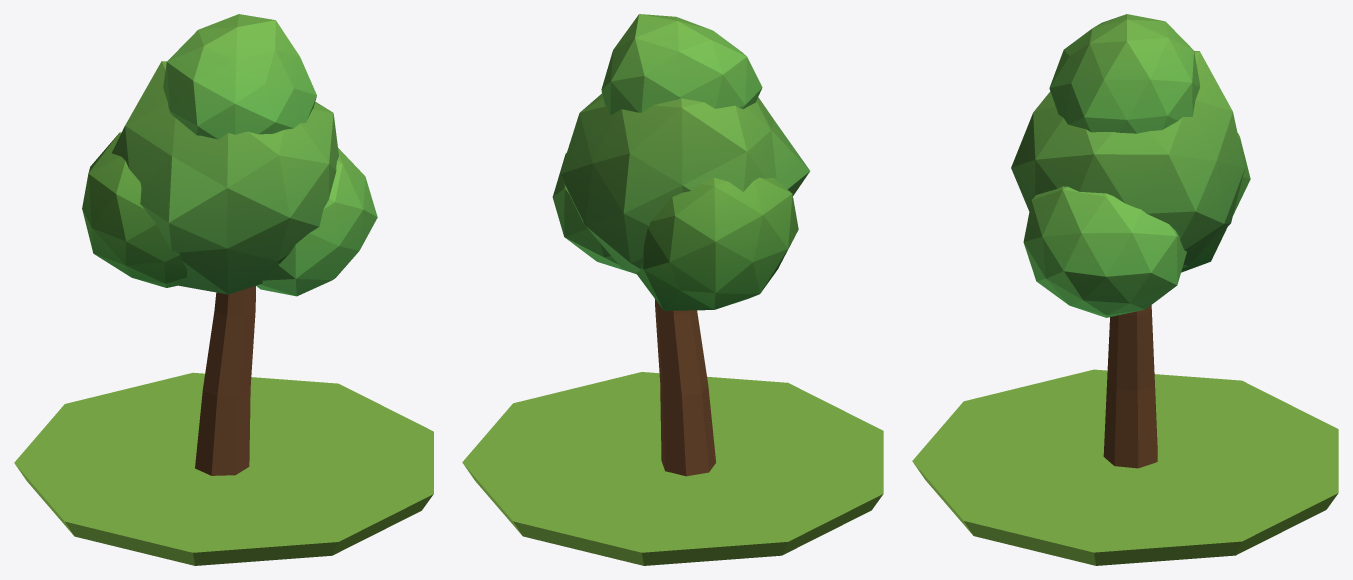
The model's file is tree.glb.
The picture shows the model from 3 angles, left to right: view 1: azimuth 30°, elevation 25°; view 2: azimuth 150°, elevation 25°; view 3: azimuth 270°, elevation 25°; orthographic projection.
Parts seen in each view (by area): view 1: Ground, Leaves, Leaves.4, Trunk, Leaves.3, Leaves.2; view 2: Ground, Leaves, Leaves.3, Leaves.4, Trunk, Leaves.2; view 3: Ground, Leaves, Leaves.2, Leaves.4, Trunk, Leaves.3.
Boxes of the visible parts, x1,y1,x2,y2 form: Ground: [14, 372, 433, 565]; Leaves: [112, 61, 338, 294]; Leaves.4: [163, 14, 316, 139]; Trunk: [195, 286, 255, 475]; Leaves.3: [82, 132, 187, 287]; Leaves.2: [256, 148, 377, 296]; Ground: [462, 372, 883, 565]; Leaves: [560, 93, 809, 274]; Leaves.3: [636, 177, 798, 310]; Leaves.4: [601, 14, 762, 115]; Trunk: [655, 299, 715, 476]; Leaves.2: [552, 152, 633, 273]; Ground: [912, 369, 1338, 565]; Leaves: [1011, 51, 1244, 267]; Leaves.2: [1023, 186, 1186, 317]; Leaves.4: [1049, 14, 1200, 133]; Trunk: [1103, 305, 1157, 468]; Leaves.3: [1181, 133, 1250, 272].
Size of the model in its own units: 1.67 by 1.97 by 1.65.
